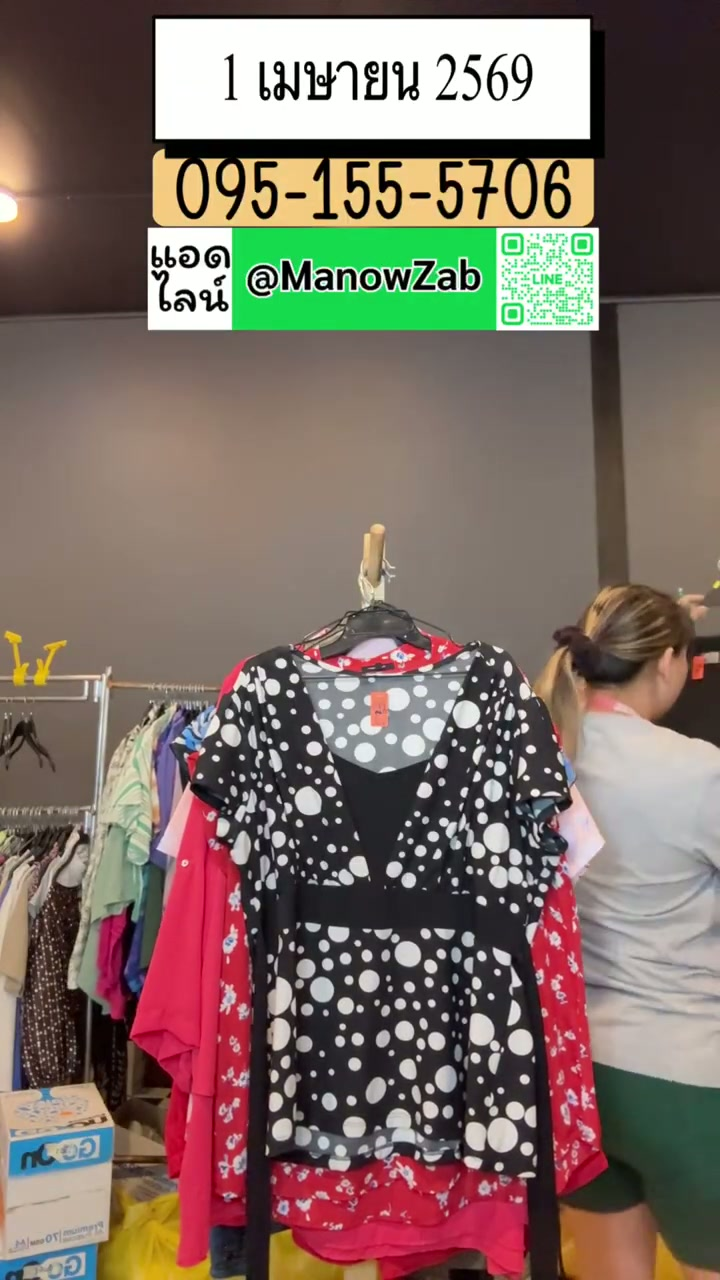display_shirt: (195, 641, 570, 1279)
